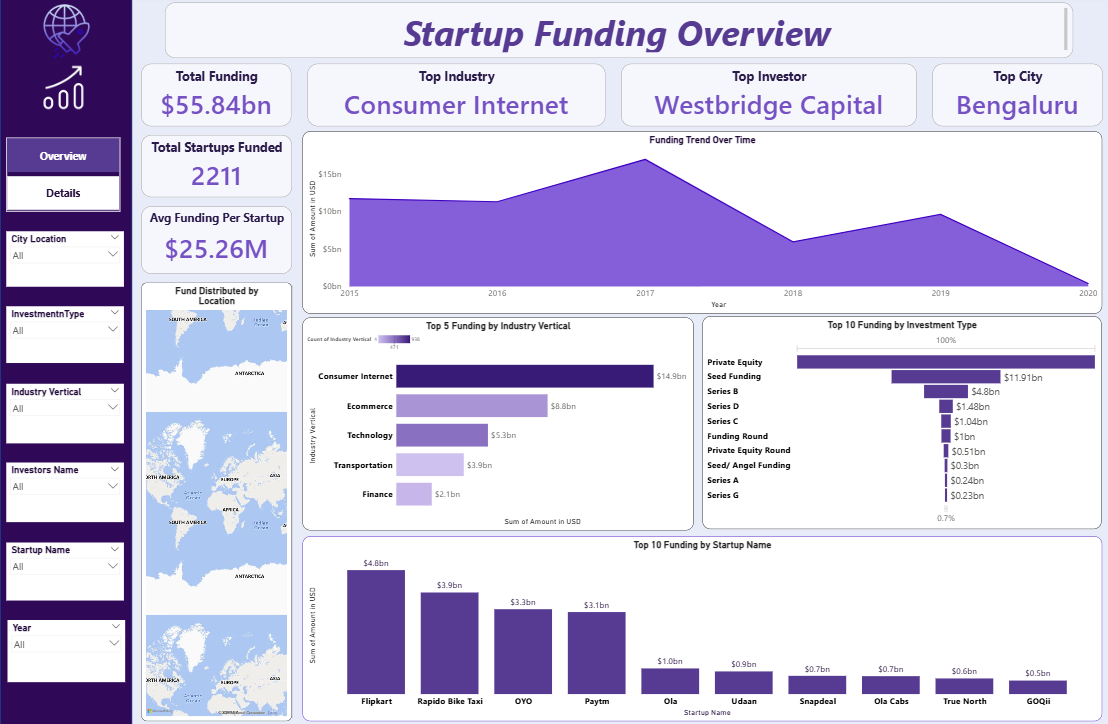

The page's visual inventory and layout, read from the dashboard file:
{"tool":"powerbi","page":{"name":"Overview","canvas":[2800,1850],"ordinal":0},"visuals":[{"type":"shape","box":[0,0,333.3,1850],"z":0},{"type":"card","title":"Avg Funding Per Startup","fields":{"Values":["startup_funding.Avg Funding Per Startup"]},"box":[356.7,531.6,380,170],"z":1000},{"type":"card","title":"Top Industry","fields":{"Values":["startup_funding.Top Industry"]},"box":[776.4,172.4,751.1,157.8],"z":2000},{"type":"card","title":"Top City","fields":{"Values":["startup_funding.Top City"]},"box":[2351.3,172.4,429.2,157.8],"z":3000},{"type":"card","title":"Top Investor","fields":{"Values":["startup_funding.Top Investor"]},"box":[1565.4,172.4,744.8,157.8],"z":4000},{"type":"card","title":"Total Startups Funded","fields":{"Values":["startup_funding.Total Startups Funded"]},"box":[356.7,352.6,380,156.7],"z":5000},{"type":"card","title":"Total Funding","fields":{"Values":["startup_funding.Total Funding"]},"box":[356.6,172.4,378.7,157.8],"z":6000},{"type":"areaChart","title":"Funding Trend Over Time","fields":{"Category":["startup_funding.Date dd/mm/yyyy.Variation.Date Hierarchy.Year","startup_funding.Date dd/mm/yyyy.Variation.Date Hierarchy.Quarter","startup_funding.Date dd/mm/yyyy.Variation.Date Hierarchy.Month","startup_funding.Date dd/mm/yyyy.Variation.Date Hierarchy.Day"],"Y":["Sum(startup_funding.Amount in USD)"]},"box":[763.3,342.6,2016.7,460],"z":7000},{"type":"columnChart","title":"Top 10 Funding by Startup Name","fields":{"Category":["startup_funding.Startup Name"],"Y":["Sum(startup_funding.Amount in USD)"]},"box":[763.3,1364,2016.7,466.7],"z":8000},{"type":"filledMap","title":"Fund Distributed by Location","fields":{"Category":["startup_funding.City Location"]},"box":[356.7,724,380,1106.7],"z":9000},{"type":"funnel","title":"Top 10 Funding by Investment Type","fields":{"Category":["startup_funding.InvestmentnType"],"Y":["Sum(startup_funding.Amount in USD)"]},"box":[1773.3,810.7,1006.7,536.7],"z":10000},{"type":"barChart","title":"Top 5 Funding by Industry Vertical","fields":{"Category":["startup_funding.Industry Vertical"],"Y":["Sum(startup_funding.Amount in USD)"]},"box":[763.3,815,986.7,536.7],"z":11000},{"type":"pageNavigator","box":[15.8,358.7,288,187.5],"z":12000},{"type":"slicer","fields":{"Values":["startup_funding.City Location"]},"box":[16.7,596.3,296.7,140],"z":13000},{"type":"slicer","fields":{"Values":["startup_funding.InvestmentnType"]},"box":[16.7,786.4,296.7,143.3],"z":14000},{"type":"slicer","fields":{"Values":["startup_funding.Industry Vertical"]},"box":[16.7,979.8,296.7,150],"z":15000},{"type":"slicer","fields":{"Values":["startup_funding.Investors Name"]},"box":[16.7,1179.8,296.7,150],"z":16000},{"type":"slicer","fields":{"Values":["startup_funding.Startup Name"]},"box":[16.7,1379.9,296.7,146.7],"z":17000},{"type":"slicer","fields":{"Values":["startup_funding.Year"]},"box":[20,1576.7,296.7,156.7],"z":18000},{"type":"image","box":[37.5,12.5,260,160],"z":19000},{"type":"image","box":[52.5,172.5,212.5,120],"z":20000},{"type":"textbox","title":"ds","box":[416.7,20,2290,140],"z":21000}]}

Visuals, with their boxes on the page's 2800x1850 design canvas (x1, y1, x2, y2). These are canvas units, not pixel positions in the 1108x724 screenshot, which may show the page scaled, cropped or inside an application window:
shape: 0:0:333:1850
"Avg Funding Per Startup" card: 357:532:737:702
"Top Industry" card: 776:172:1528:330
"Top City" card: 2351:172:2780:330
"Top Investor" card: 1565:172:2310:330
"Total Startups Funded" card: 357:353:737:509
"Total Funding" card: 357:172:735:330
"Funding Trend Over Time" areaChart: 763:343:2780:803
"Top 10 Funding by Startup Name" columnChart: 763:1364:2780:1831
"Fund Distributed by Location" filledMap: 357:724:737:1831
"Top 10 Funding by Investment Type" funnel: 1773:811:2780:1347
"Top 5 Funding by Industry Vertical" barChart: 763:815:1750:1352
pageNavigator: 16:359:304:546
slicer - startup_funding.City Location: 17:596:313:736
slicer - startup_funding.InvestmentnType: 17:786:313:930
slicer - startup_funding.Industry Vertical: 17:980:313:1130
slicer - startup_funding.Investors Name: 17:1180:313:1330
slicer - startup_funding.Startup Name: 17:1380:313:1527
slicer - startup_funding.Year: 20:1577:317:1733
image: 38:12:298:172
image: 52:172:265:292
"ds" textbox: 417:20:2707:160
